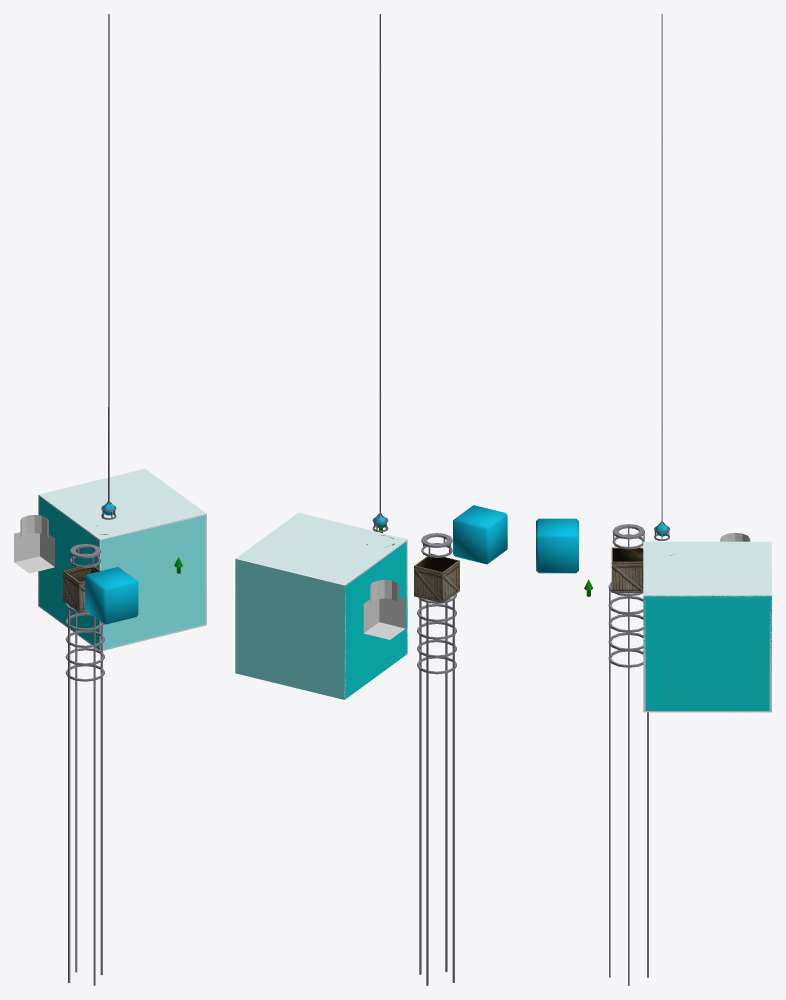
Rendered from pipedown.glb.
The picture shows the model from 3 angles, left to right: view 1: azimuth 30°, elevation 25°; view 2: azimuth 150°, elevation 25°; view 3: azimuth 270°, elevation 25°; orthographic projection. The views are drawn at different scales.
Parts seen in each view (by area): view 1: BoxOutline, Cup, BoxChrome, Proxy_Cup, BallSucker; view 2: BoxOutline, Cup, BoxChrome, Proxy_Cup, BallSucker; view 3: BoxOutline, Cup, BoxChrome, BallSucker.
Part boxes in pixels (x1,y1,x2,y2): BoxOutline: (38, 468, 206, 650); Cup: (63, 544, 104, 985); BoxChrome: (85, 567, 138, 624); Proxy_Cup: (14, 515, 54, 573); BallSucker: (101, 14, 116, 519); BoxOutline: (235, 512, 407, 699); Cup: (414, 533, 459, 985); BoxChrome: (453, 505, 507, 564); Proxy_Cup: (363, 579, 405, 639); BallSucker: (372, 14, 388, 532); BoxOutline: (643, 541, 771, 712); Cup: (608, 524, 648, 985); BoxChrome: (536, 518, 578, 573); BallSucker: (654, 14, 669, 540).
Bounding box in the file's own units: 6.93 × 40.51 × 8.81.
21 materials, 6 textured.
